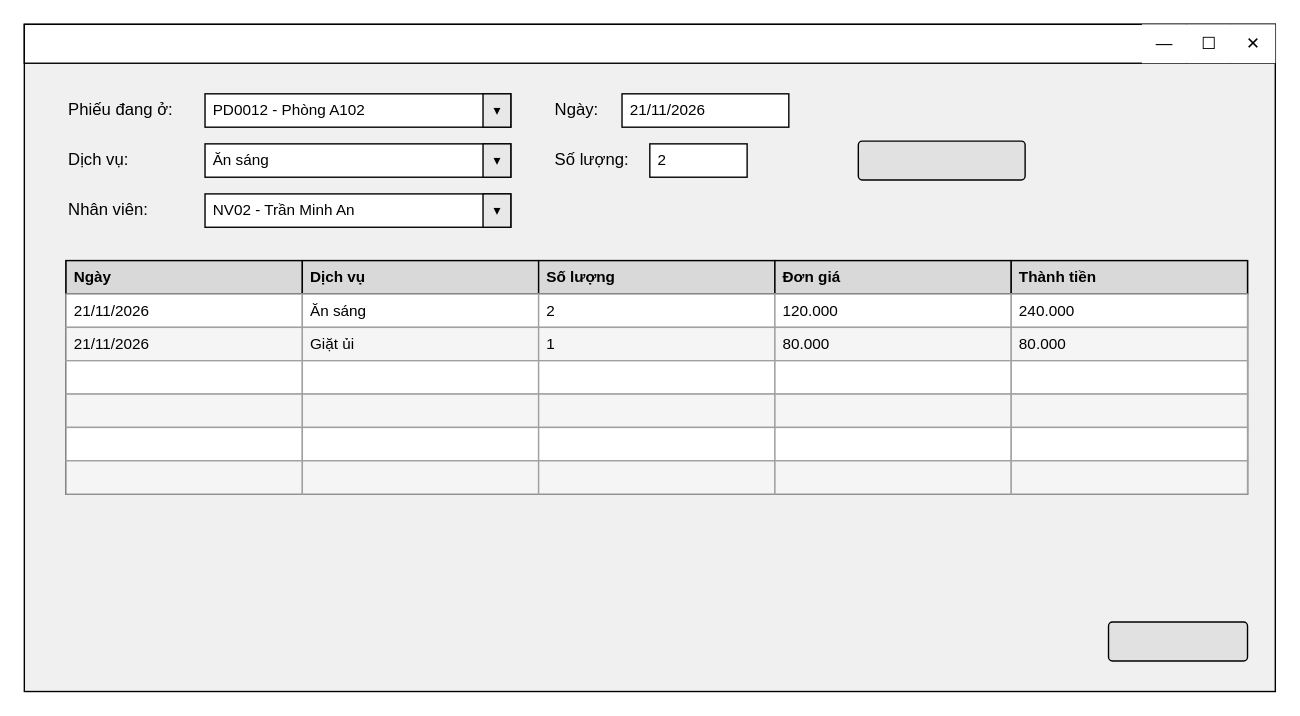
Some shapes in this 1300 by 716 pixel diagram are drawn without their labels. Each missing label, with the box of its shape:
Ghi nhận: (857, 140, 1025, 180)
Sử dụng dịch vụ: (23, 23, 1275, 63)
Đóng: (1107, 621, 1248, 661)
